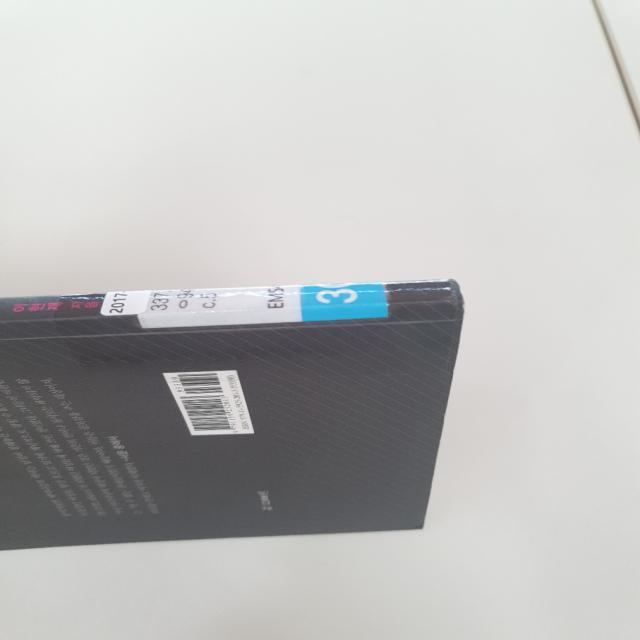Wornout: (447, 269, 469, 319)
